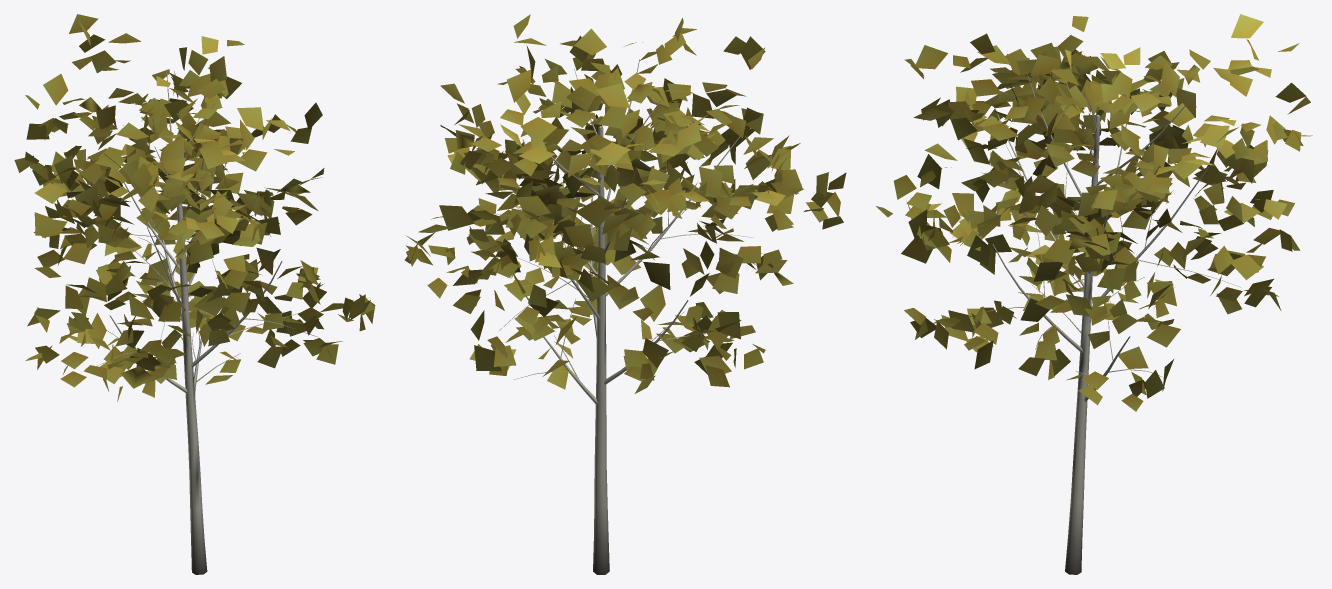
Rendered from birch-c.lod1.glb.
The picture shows the model from 3 angles, left to right: view 1: azimuth 30°, elevation 25°; view 2: azimuth 150°, elevation 25°; view 3: azimuth 270°, elevation 25°; orthographic projection. The views are drawn at different scales.
Bounding box in the file's own units: 8.63 × 13.09 × 9.61.
